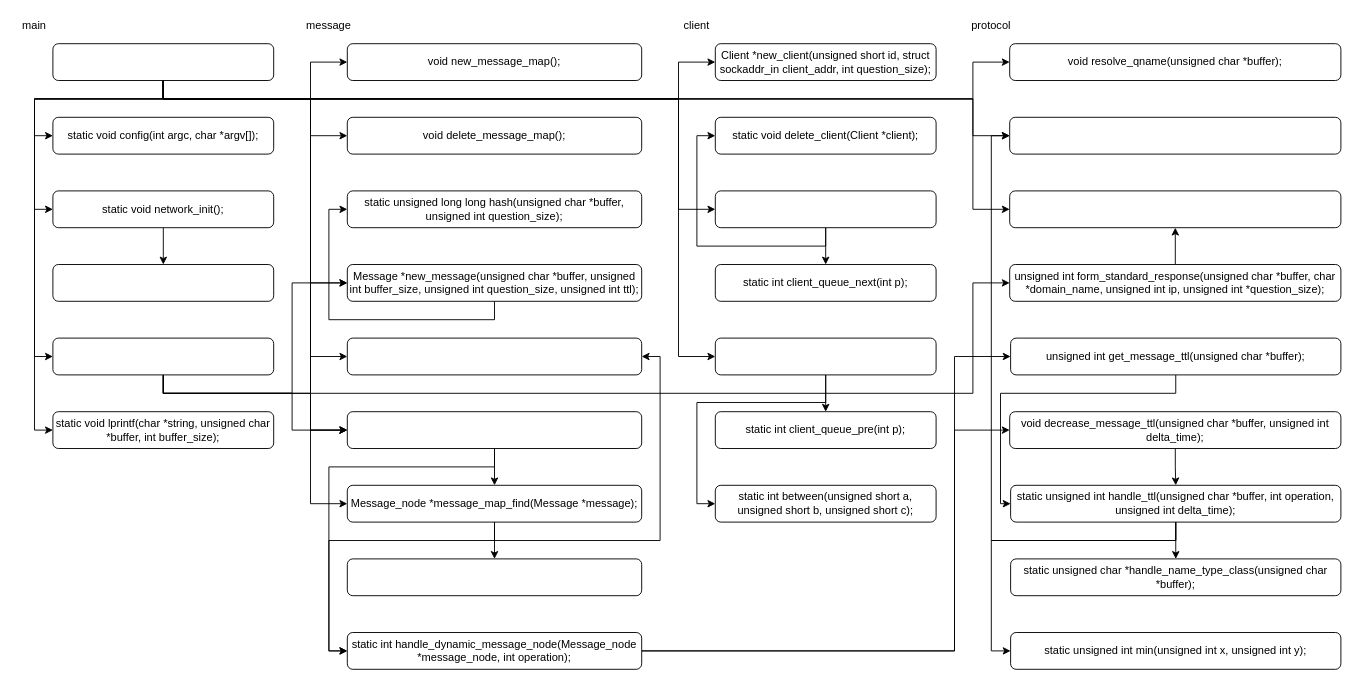
This 1357x685 diagram has some shape labels left out. The shapes that lost their labels are listed below. From the top down, each one's centre as x and y in pixels, then its label:
point (163, 61): int main(int argc, char *argv[]);
point (1175, 135): void decode_header(Header *header);
point (825, 209): unsigned short client_queue_push(Client *client);
point (1175, 209): void encode_header(Header *header);
point (163, 282): static void socket_init(void);
point (163, 356): static void load_config_file();
point (494, 356): void delete_message(Message *message);
point (825, 356): Client *client_queue_find(unsigned short id);
point (494, 429): void message_map_insert(Message *message);
point (494, 577): static int between(unsigned int a, unsigned int b, unsigned int c);
